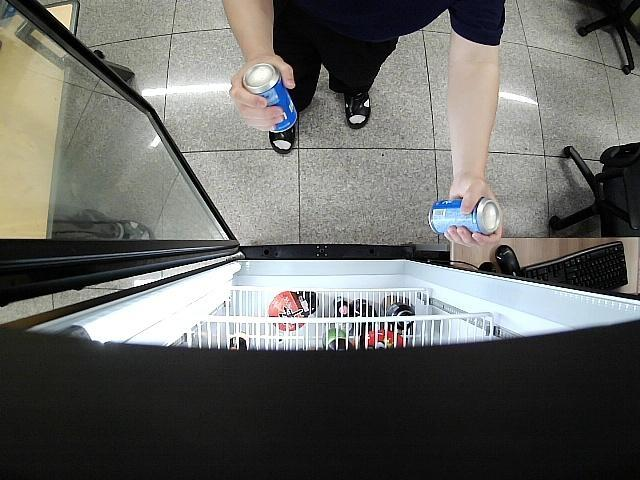15_letsbe: (244, 65, 298, 134), (428, 197, 498, 238)
